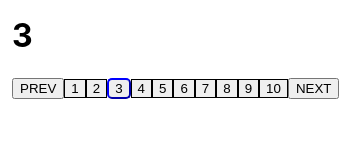
Test: Should disable  prev button
The width and height of the screenshot is (356, 160).
Expected: the heading with test id "currVal" reads "3", x1=12 y1=16 x2=33 y2=55
Click the button with test id "prevBtn" at (38, 88), box x1=12 y1=78 x2=64 y2=99
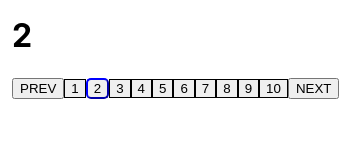
Expected: the heading with test id "currVal" reads "2", x1=12 y1=16 x2=32 y2=55
Click the button with test id "prevBtn" at (38, 88), box x1=12 y1=78 x2=64 y2=99
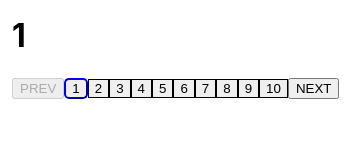
Expected: the heading with test id "currVal" reads "1", x1=12 y1=16 x2=26 y2=55
Expected: the button with test id "prevBtn" is disabled, x1=12 y1=78 x2=64 y2=99
